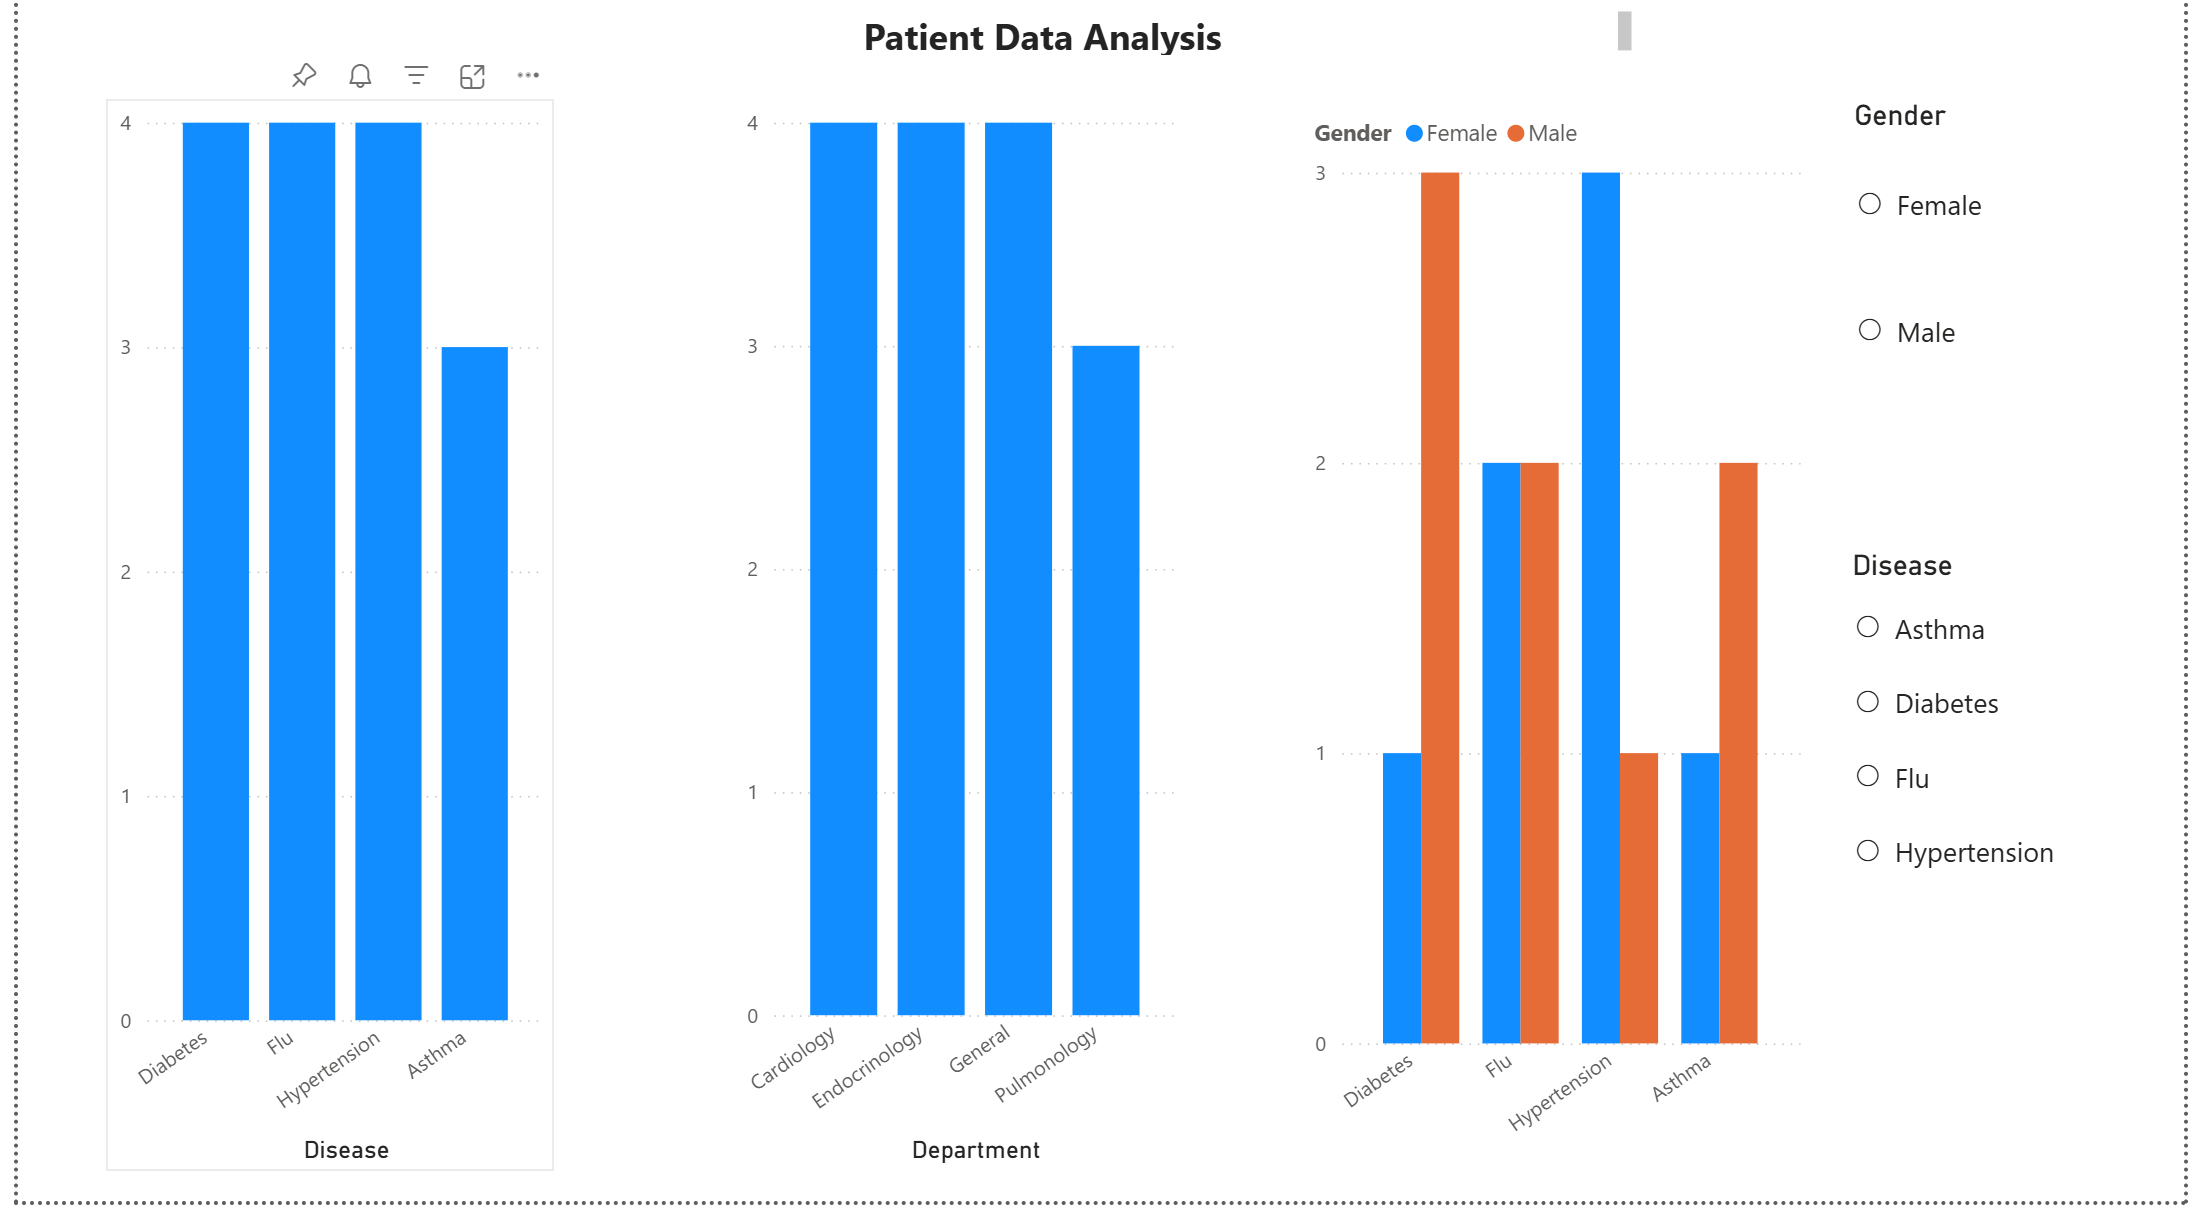

Layout of this report page (visuals, bound fields, positions):
{"tool":"powerbi","page":{"name":"Page 1","canvas":[1280,720],"ordinal":0},"visuals":[{"type":"clusteredColumnChart","fields":{"Category":["Main Data.Column4"],"Y":["CountNonNull(Main Data.Column1)"]},"box":[52.4,68.1,332.8,634.1],"z":0},{"type":"clusteredColumnChart","fields":{"Category":["Main Data.Column5"],"Y":["CountNonNull(Main Data.Column1)"]},"box":[435,68.1,334.1,634.1],"z":1},{"type":"clusteredColumnChart","fields":{"Category":["Main Data.Column4"],"Series":["Main Data.Column3"],"Y":["CountNonNull(Main Data.Column1)"]},"box":[779,68,334,634],"z":2},{"type":"listSlicer","fields":{"Values":["Main Data.Column3"]},"box":[1123,68,157,634],"z":3},{"type":"listSlicer","title":"Disease","fields":{"Values":["Main Data.Column4"]},"box":[1121.5,334.1,158.5,386.5],"z":4},{"type":"textbox","box":[261.6,11.4,697.3,35.3],"z":5}]}

Visuals, with their boxes on the page's 1280x720 design canvas (x1, y1, x2, y2). These are canvas units, not pixel positions in the 2209x1214 screenshot, which may show the page scaled, cropped or inside an application window:
clusteredColumnChart - Main Data.Column4 x CountNonNull(Main Data.Column1): select_region(52, 68, 385, 702)
clusteredColumnChart - Main Data.Column5 x CountNonNull(Main Data.Column1): select_region(435, 68, 769, 702)
clusteredColumnChart - Main Data.Column4 x Main Data.Column3: select_region(779, 68, 1113, 702)
listSlicer - Main Data.Column3: select_region(1123, 68, 1280, 702)
"Disease" listSlicer: select_region(1122, 334, 1280, 721)
textbox: select_region(262, 11, 959, 47)
